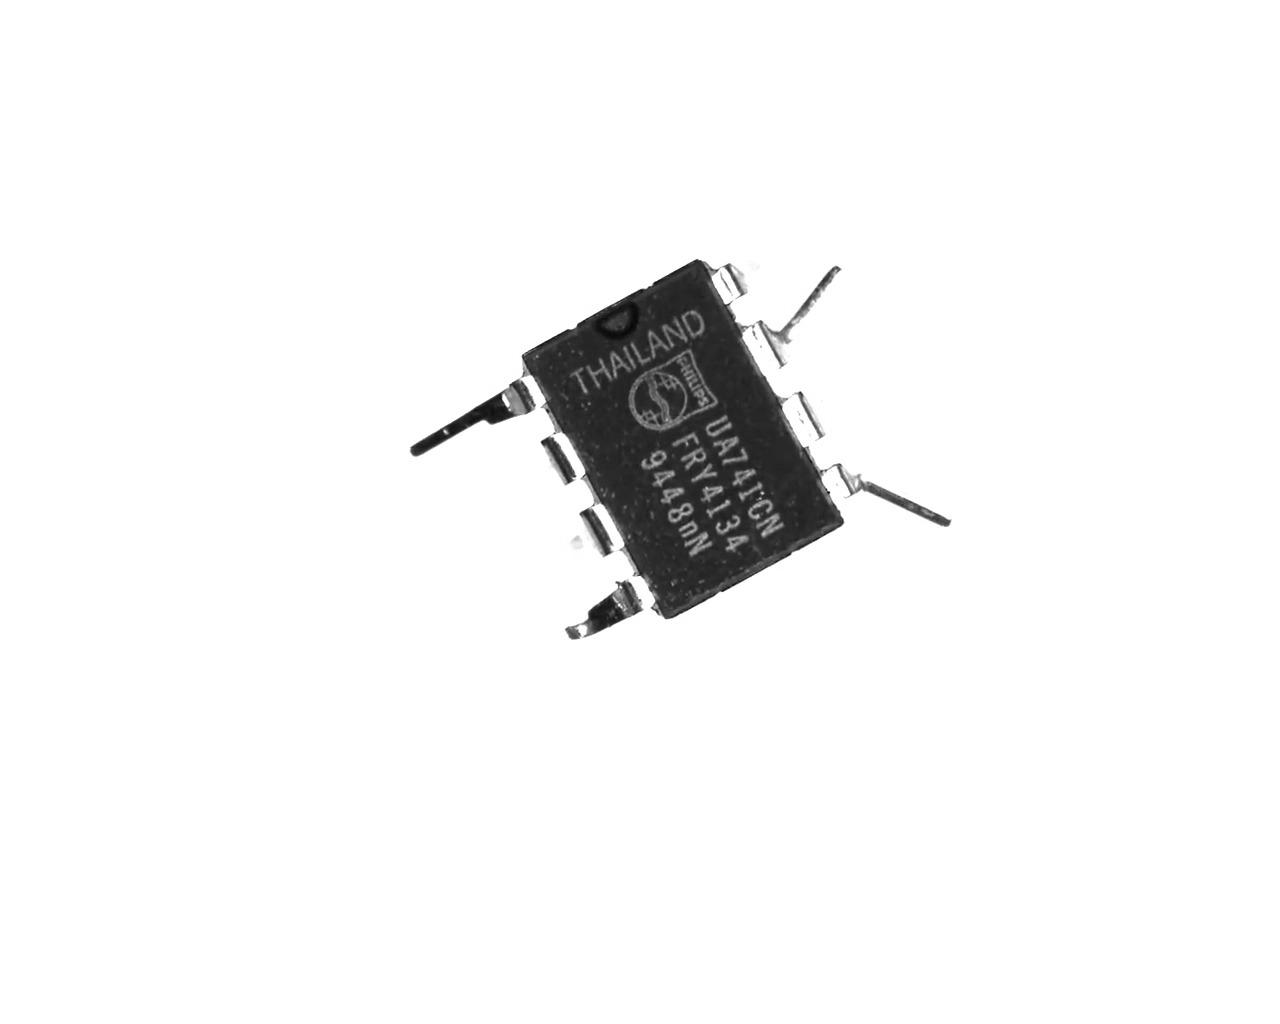Leg: (404, 367, 537, 464), (736, 258, 844, 376), (820, 462, 954, 536), (565, 575, 648, 642), (555, 495, 627, 563), (537, 416, 587, 494), (715, 250, 778, 306), (776, 385, 825, 451)
